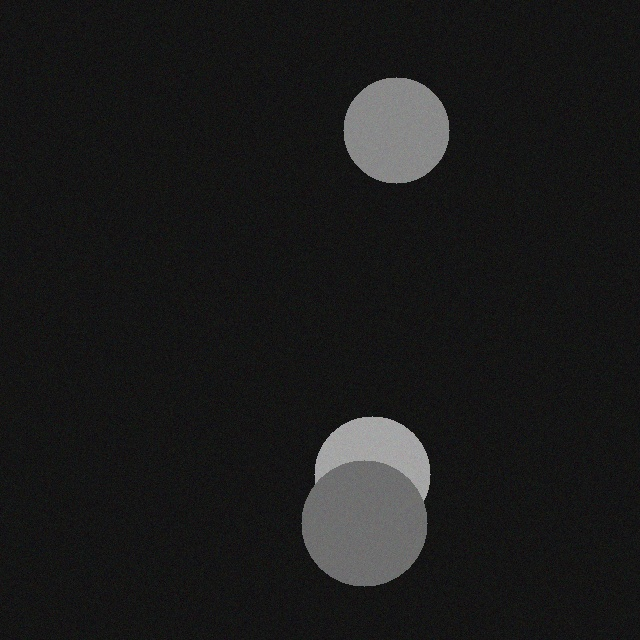circle: (301, 474, 427, 600), (314, 430, 430, 546), (343, 91, 449, 197)
